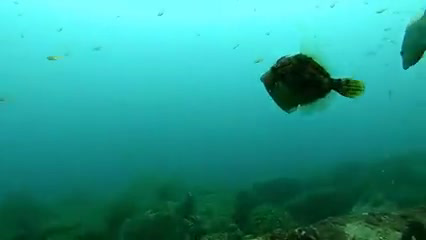kawahagi: (254, 34, 365, 113)
smallfish: (395, 8, 426, 71), (45, 51, 72, 65)
